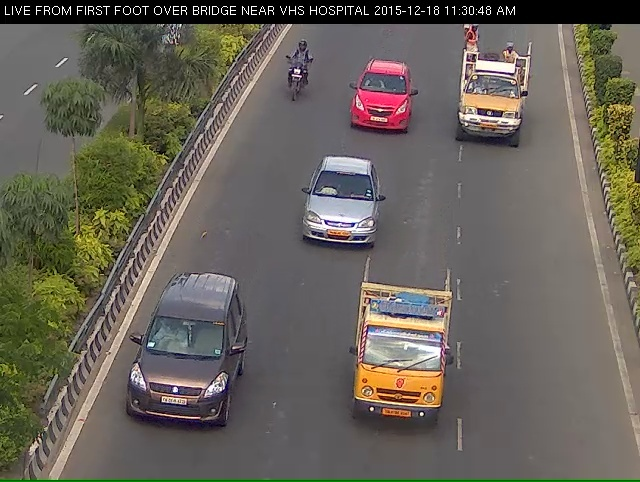Auto: (339, 286, 457, 464), (458, 38, 533, 156)
Car: (119, 285, 235, 462), (296, 160, 386, 267), (348, 55, 425, 142)
Person: (272, 47, 313, 114)
